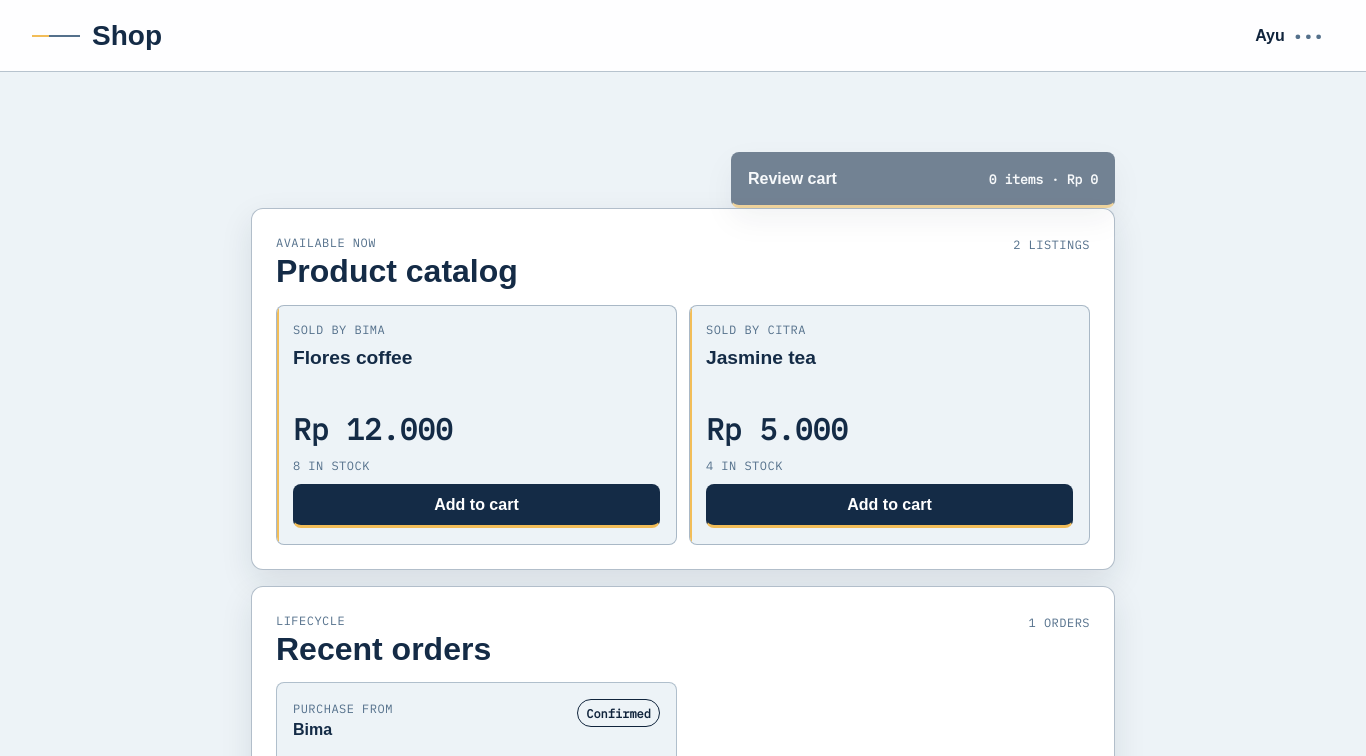
Test case: Buyer › does not mutate the cart or report success after an empty non-OK response
Click the button with aria-label "Add Flores coffee to cart".
click(476, 506)  # box x1=293 y1=484 x2=660 y2=528
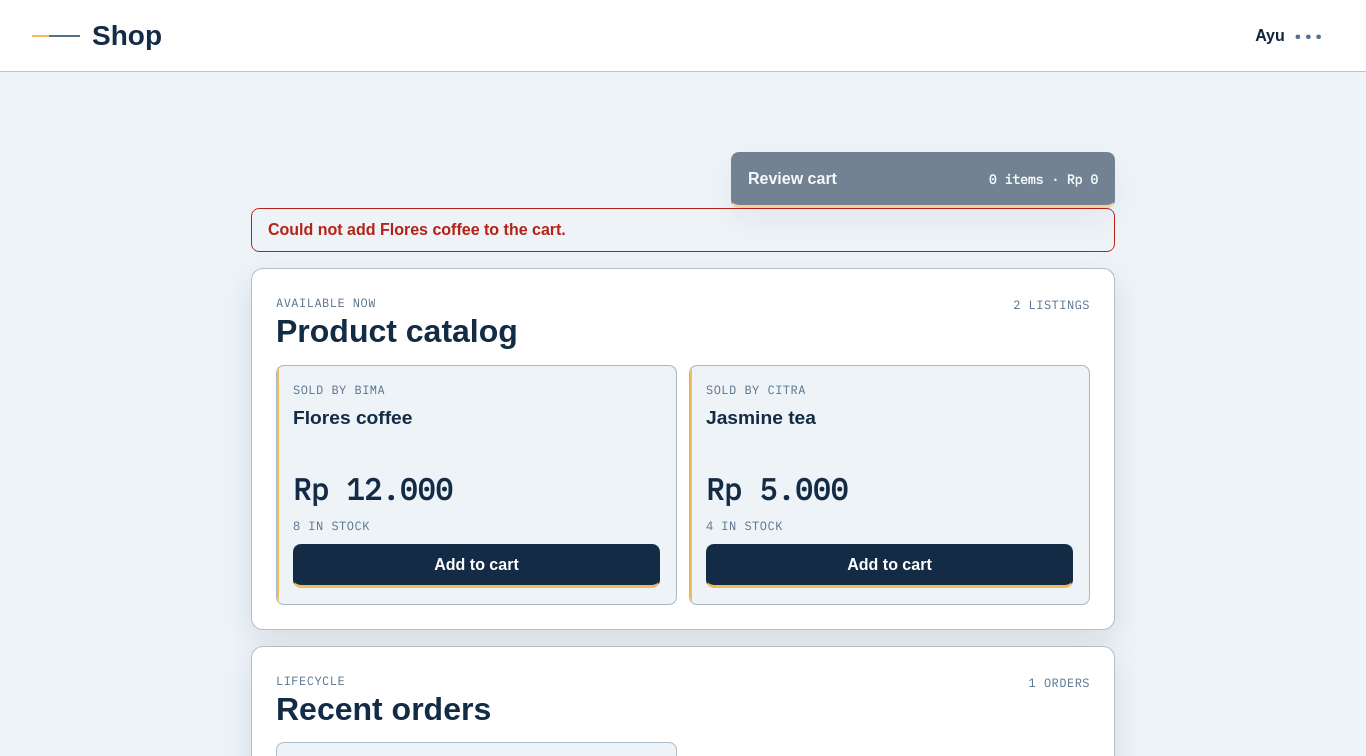
Expected: the button "Review cart 0 items · Rp 0" is disabled, x1=731 y1=152 x2=1115 y2=208
Now the message reads "Could not add Flores coffee to the cart.", box x1=268 y1=221 x2=566 y2=238
